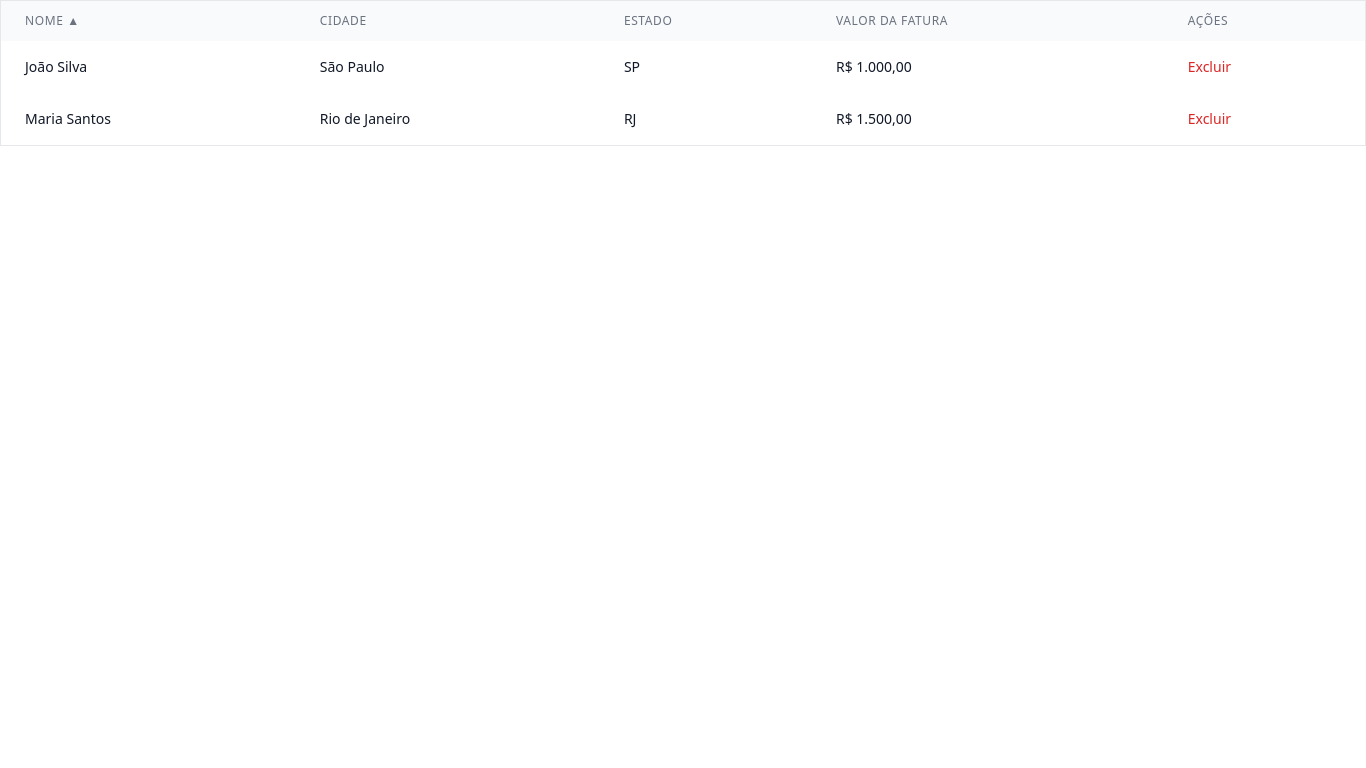
Test case: LeadsTable › should close the modal when clicking cancel
The width and height of the screenshot is (1366, 768).
Click the button "Excluir" in the row of "João Silva": (1209, 67) [1188,57,1231,77]
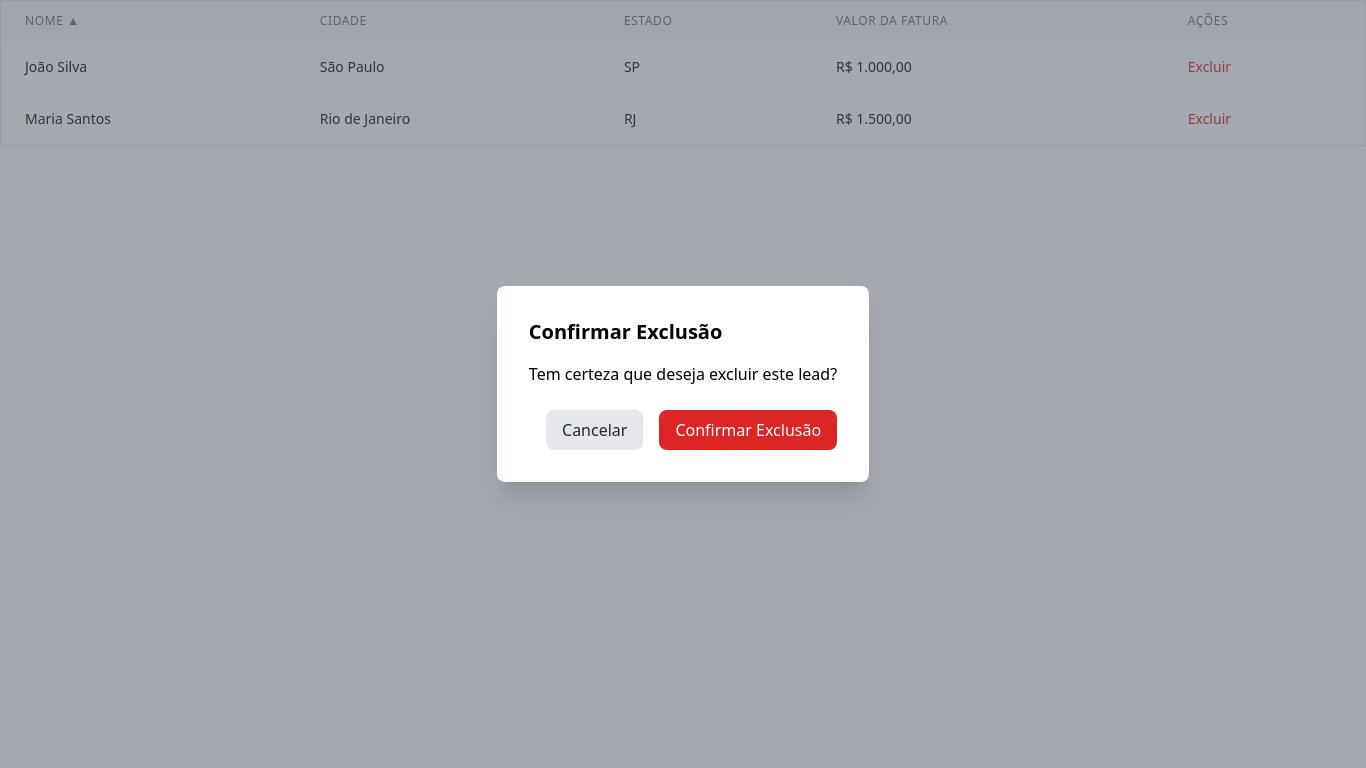
Click the button "Cancelar": (595, 430) [546,410,643,450]
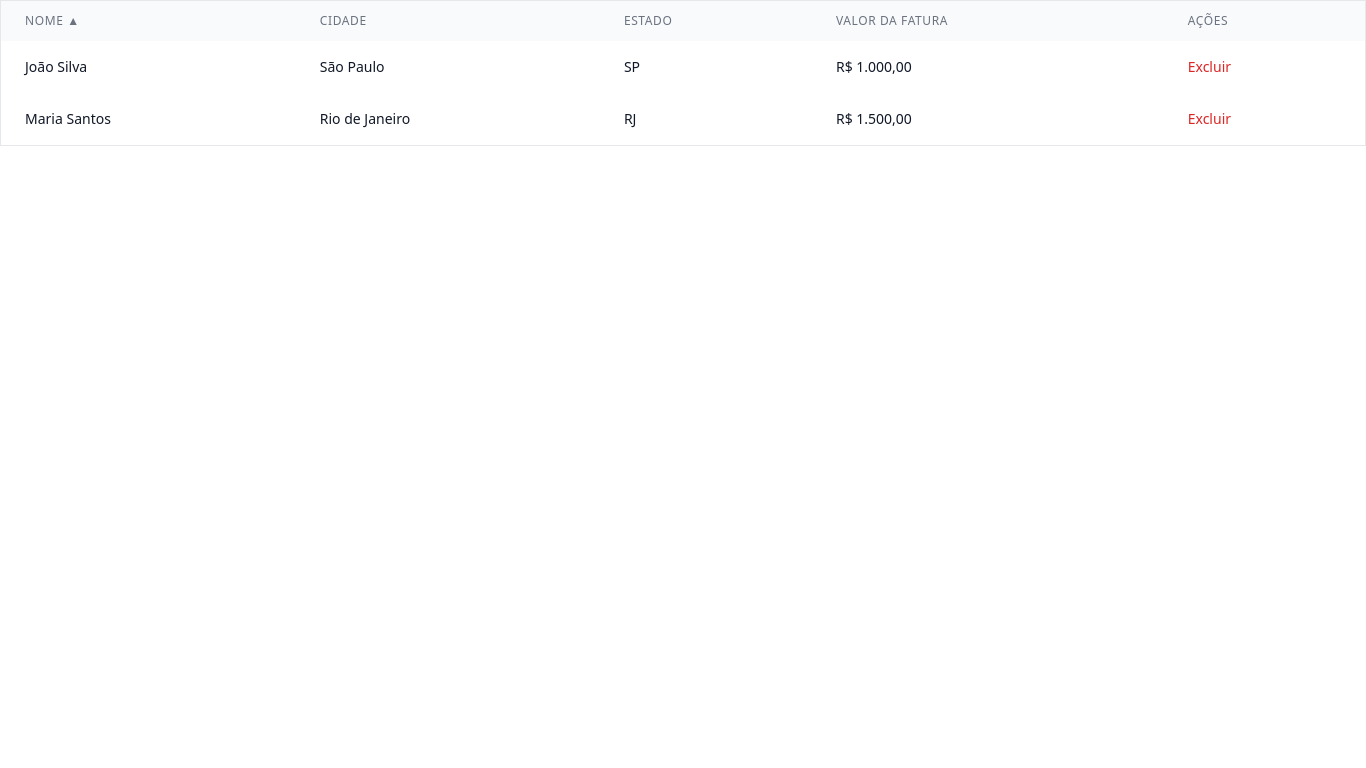
Expected: the heading "Confirmar Exclusão" is gone
